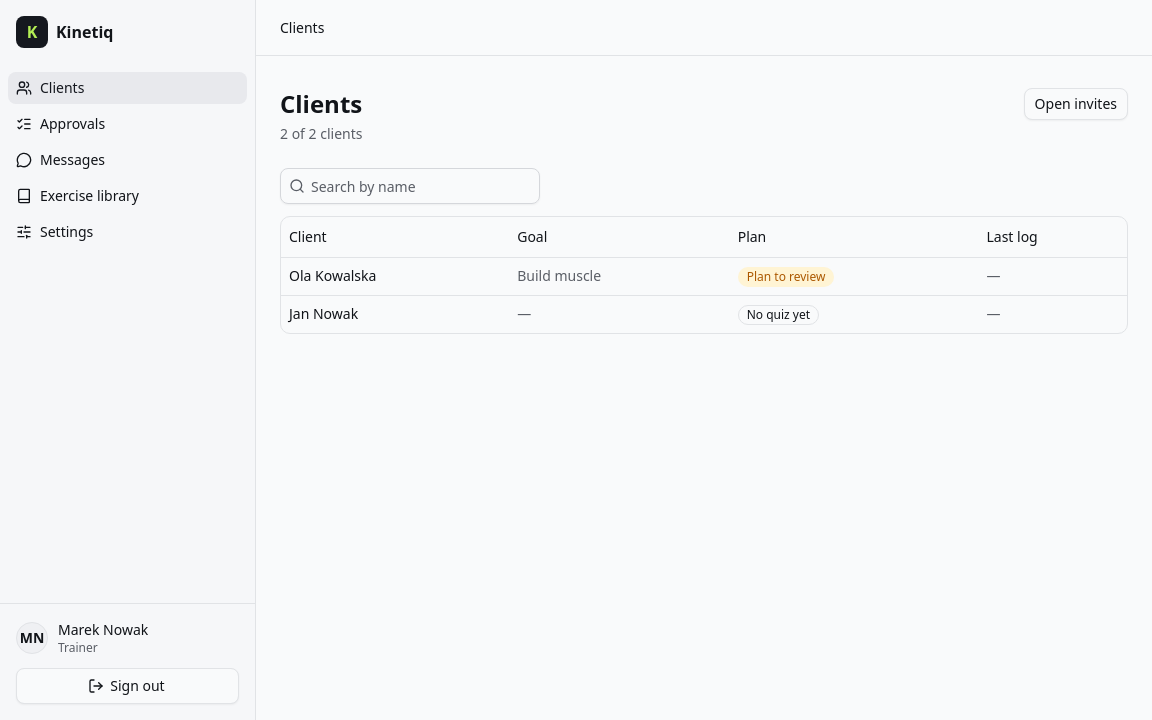
Test case: ClientPage › is opened from the clients table by the client’s name
Click the link "Jan Nowak" at (324, 314), box [289,304,358,323]
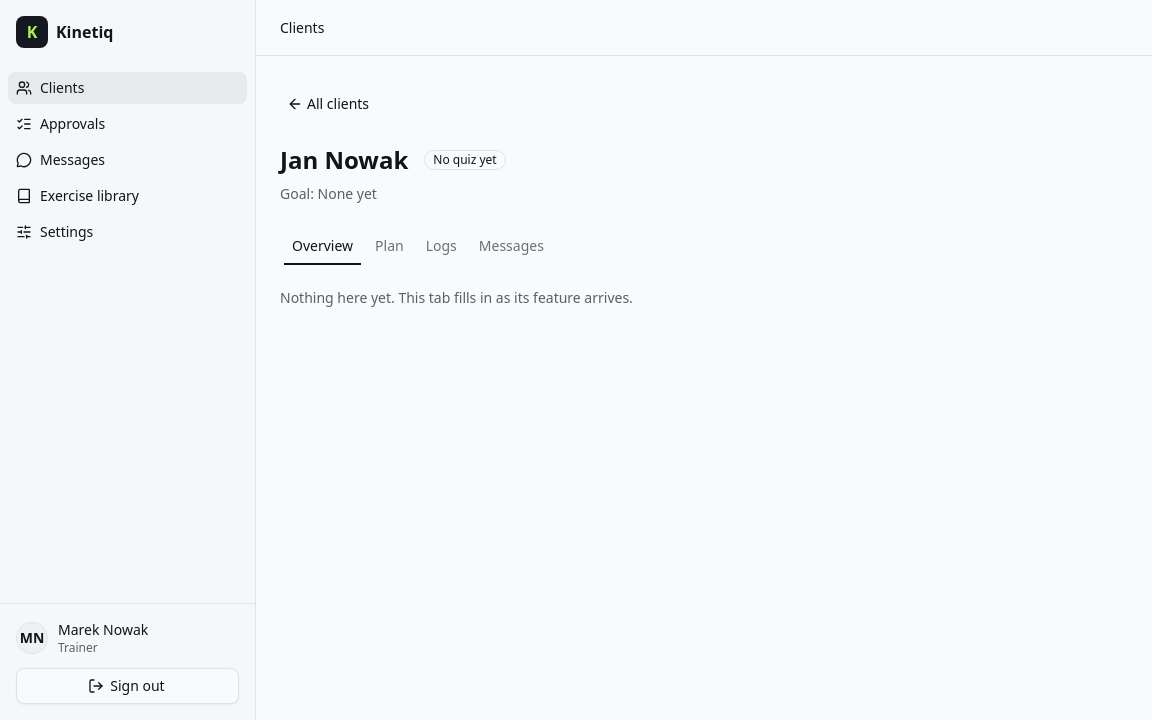
Check: the heading "Jan Nowak" is shown, box [280,144,408,176]
